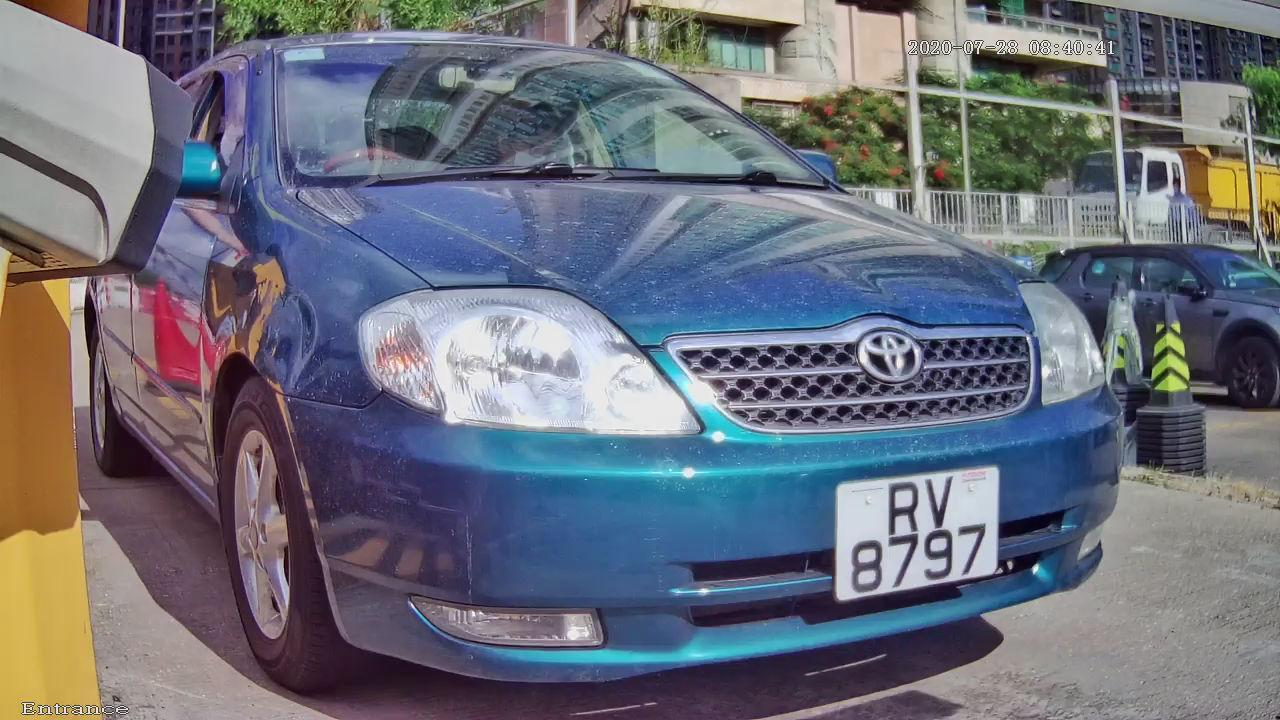privatecar: (23, 1, 1269, 720)
